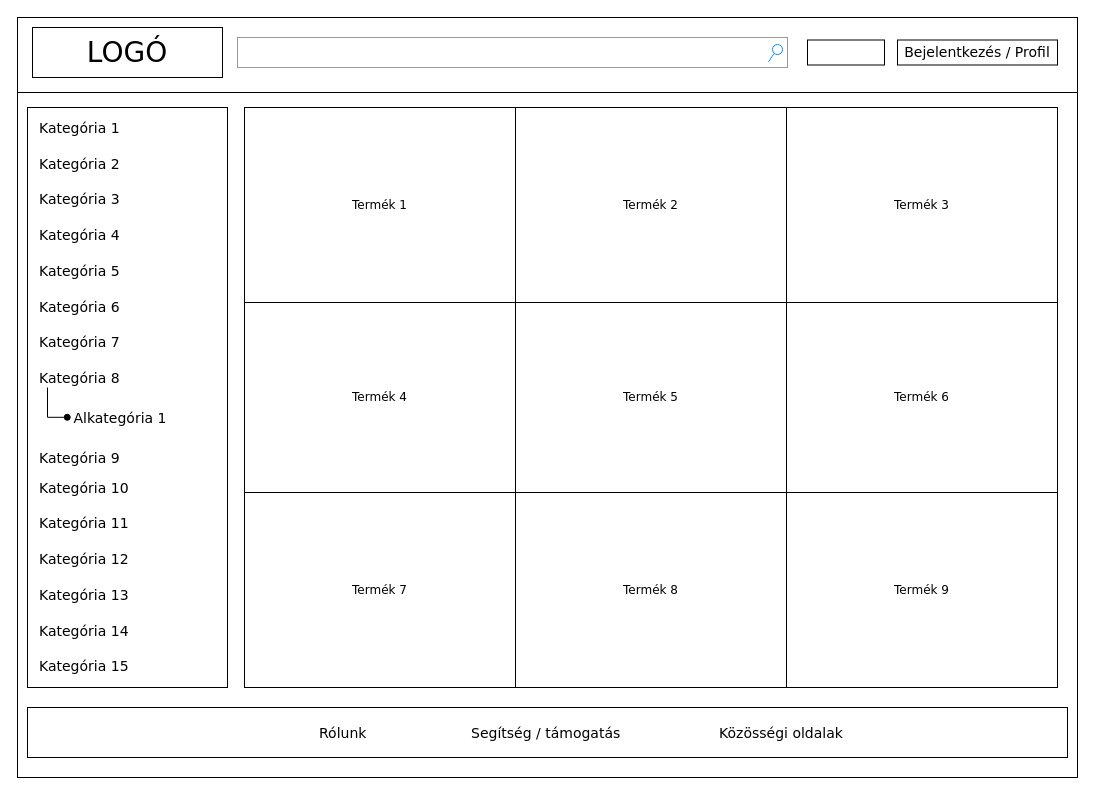
Image size: 1095x795. Some labels were removed from this diagram. Here are the shapes that lost their labels. From the top down, the centre of each, then its label:
At point (512, 52): "Keresés".
At point (845, 52): "Kosár".
